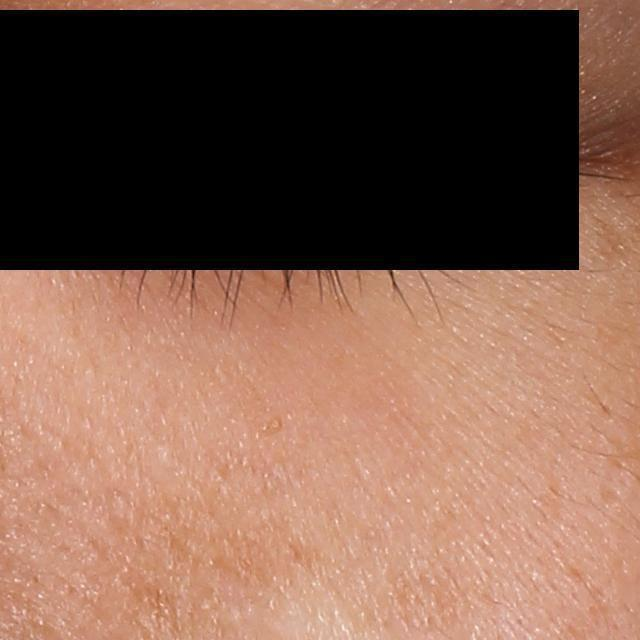melasma: (589, 216, 631, 266)
